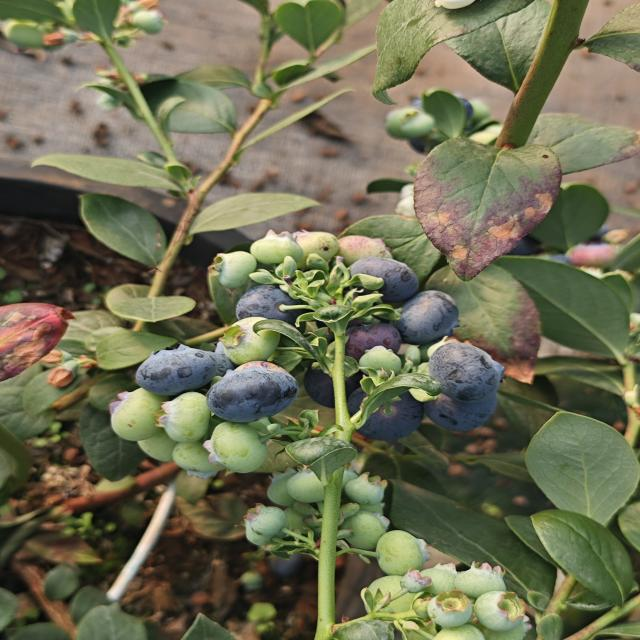ripe: (204, 365, 300, 425), (425, 340, 503, 404), (132, 343, 219, 398), (349, 387, 425, 443), (230, 281, 314, 327), (304, 354, 370, 409), (344, 257, 420, 300), (336, 320, 403, 368), (397, 290, 462, 338), (426, 396, 501, 436), (264, 548, 317, 578)
